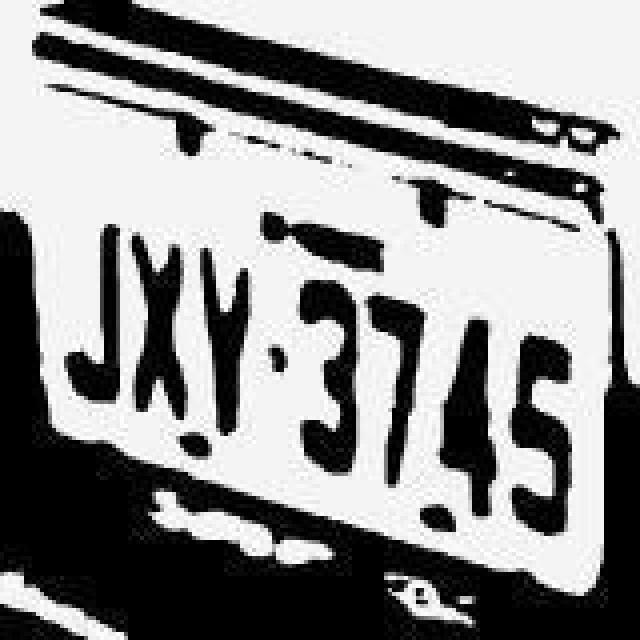3: (292, 274, 364, 486)
4: (432, 306, 504, 526)
5: (504, 324, 576, 540)
7: (364, 292, 428, 508)
J: (52, 202, 124, 422)
V: (200, 230, 264, 442)
X: (132, 214, 196, 434)
